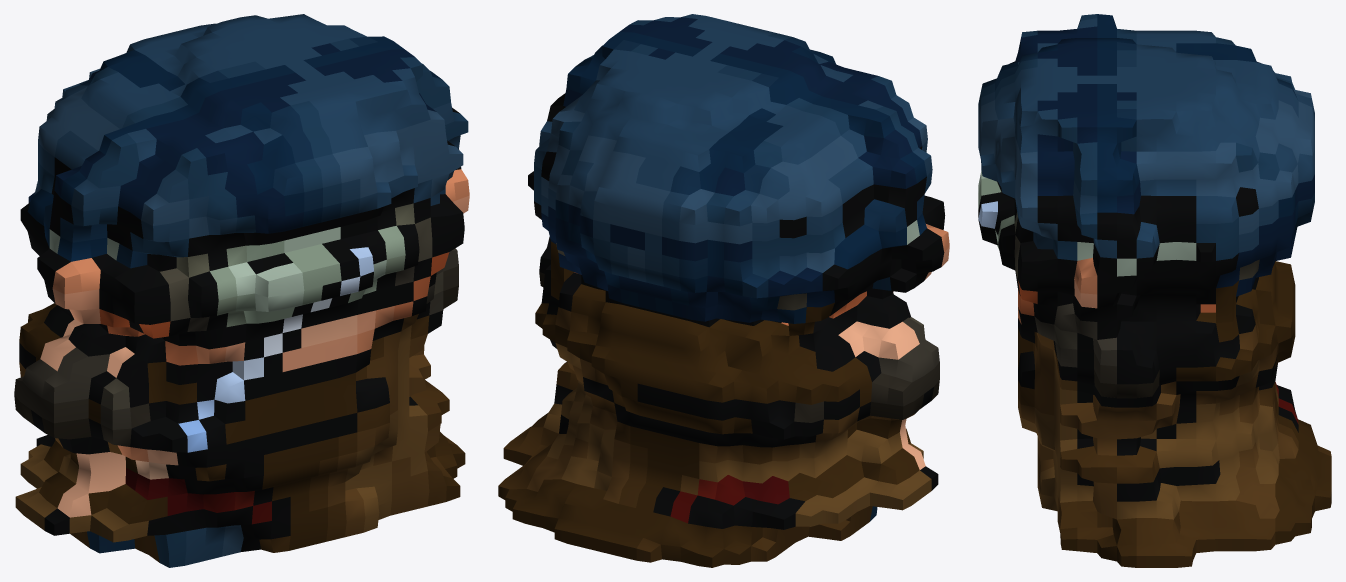
File: Icon_713_02.obj
3 renders of one model, left to right at view 1: azimuth 30°, elevation 25°; view 2: azimuth 150°, elevation 25°; view 3: azimuth 270°, elevation 25°, orthographic. The views are drawn at different scales.
Size of the model in its own units: 2.28 by 2.3 by 1.78.
